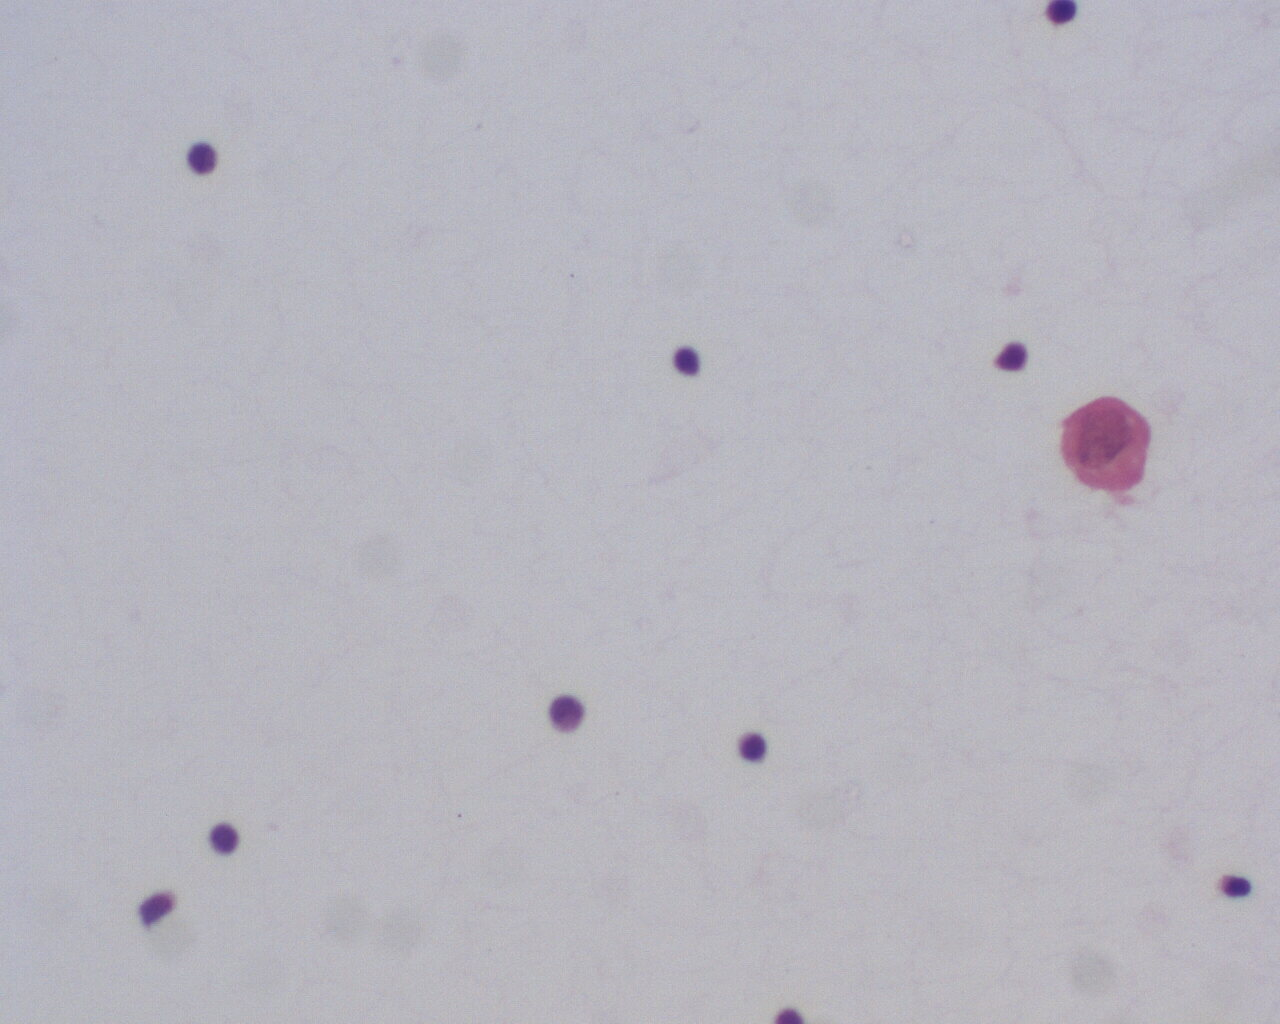ab: (1064, 391, 1156, 499)
lymph: (731, 734, 779, 771), (184, 140, 228, 176), (669, 341, 703, 375)
